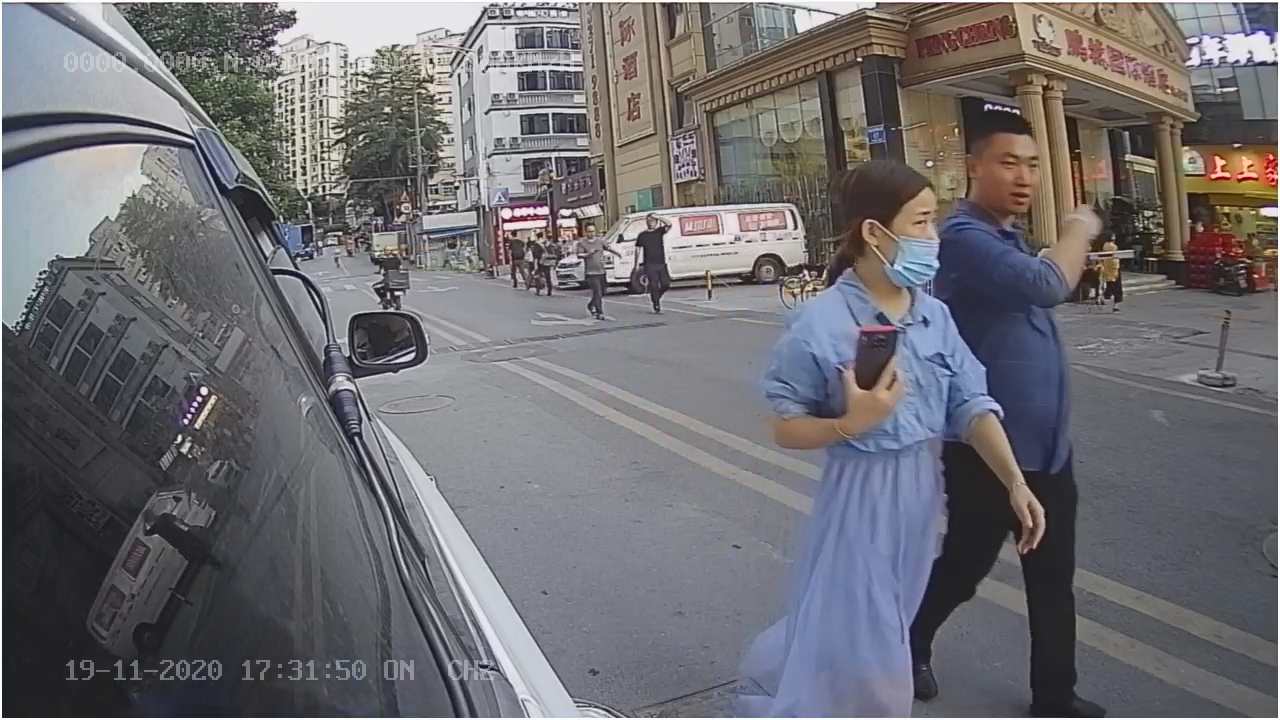person: (777, 163, 946, 669)
